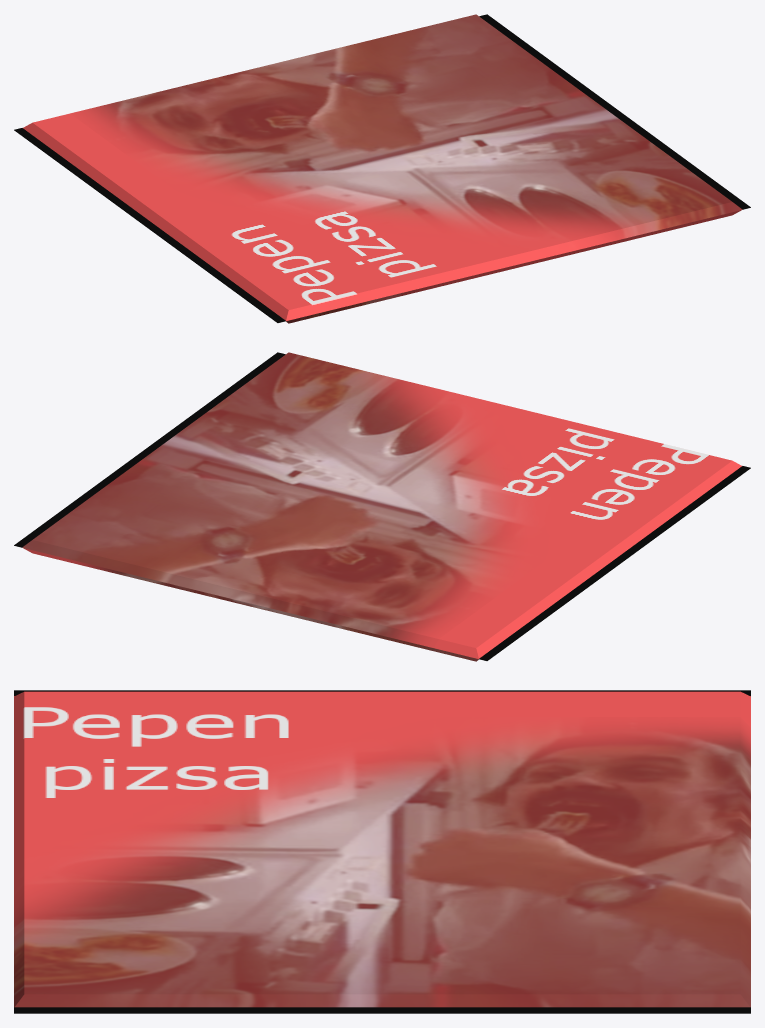
File: Pizza.fbx
The picture shows the model from 3 angles, top to bottom: view 1: azimuth 30°, elevation 25°; view 2: azimuth 150°, elevation 25°; view 3: azimuth 270°, elevation 25°; orthographic projection. The views are drawn at different scales.
Visible parts, largest first — view 1: Plane; view 2: Plane; view 3: Plane.
Boxes of the visible parts, <box> form: Plane: <box>14,14,750,323</box>; Plane: <box>14,352,750,661</box>; Plane: <box>14,690,750,1013</box>.
Size of the model in its own units: 36.26 by 0.9858 by 34.99.
